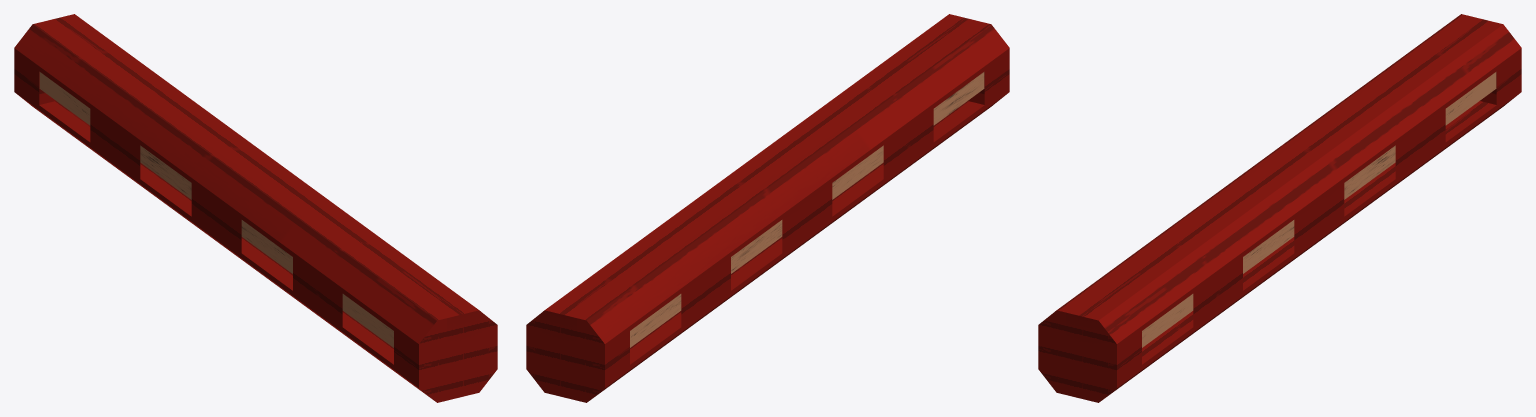
The model's file is Beam.fbx.
3 renders of one model, left to right at view 1: azimuth 30°, elevation 25°; view 2: azimuth 150°, elevation 25°; view 3: azimuth 330°, elevation 25°, orthographic.
Visible parts, largest first — view 1: Cube.004; view 2: Cube.004; view 3: Cube.004.
Boxes of the visible parts, bbox=[...] form: Cube.004: bbox=[14, 14, 497, 402]; Cube.004: bbox=[526, 14, 1009, 402]; Cube.004: bbox=[1038, 14, 1521, 402].
Bounding box in the file's own units: 200 × 200 × 1780.
